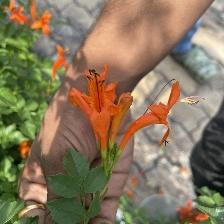honeysuckle: (70, 64, 135, 159)
